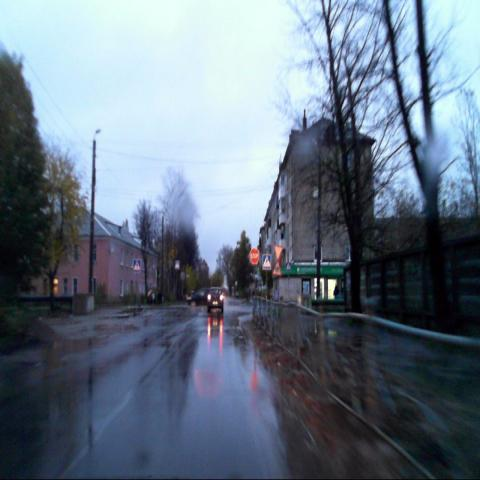1_23: (272, 259, 282, 276)
2_4: (273, 246, 283, 259)
2_5: (249, 247, 259, 265)
5_19_1: (262, 253, 271, 270)
